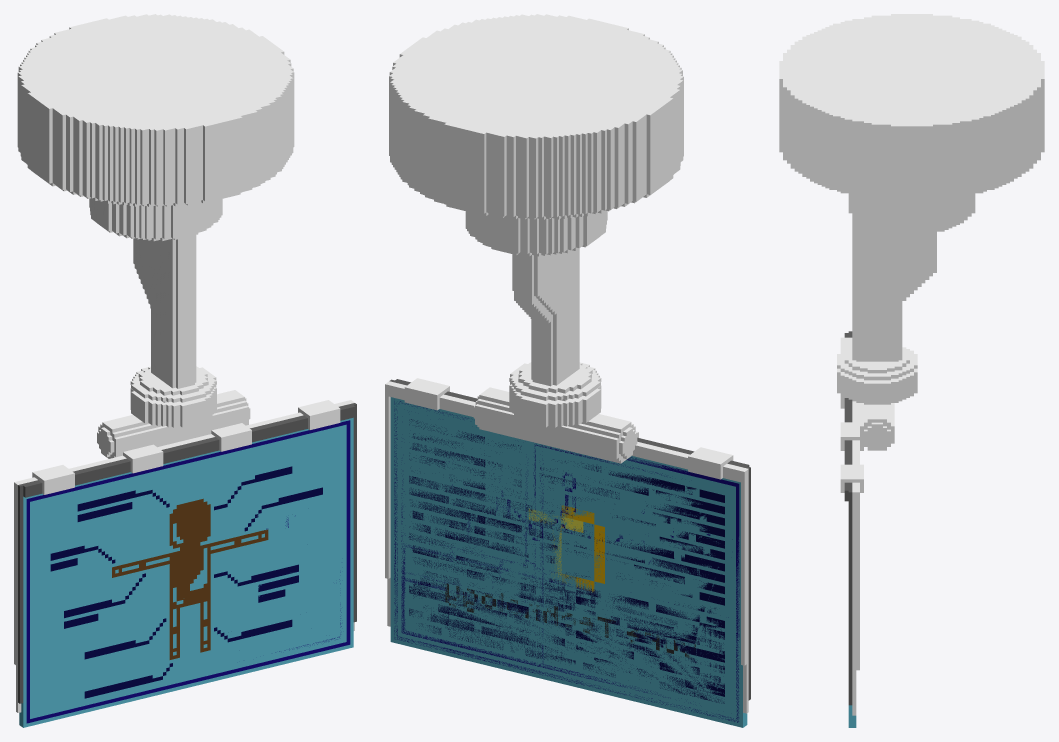
File: Monitor4-1.fbx
3 renders of one model, left to right at view 1: azimuth 30°, elevation 25°; view 2: azimuth 150°, elevation 25°; view 3: azimuth 270°, elevation 25°, orthographic. The views are drawn at different scales.
Visible parts, largest first — view 1: Monitor4-1.006, Monitor4-1.010, Monitor4-1.011, Monitor4-1.009; view 2: Monitor4-1.007, Monitor4-1.010, Monitor4-1.001, Monitor4-1.008, Monitor4-1.004, Monitor4-1.011, Monitor4-1.009, Monitor4-1.003, Monitor4-1.005, Monitor4-1.002; view 3: Monitor4-1.010, Monitor4-1.011, Monitor4-1.009.
Part boxes in pixels (left/top/right/bottom): Monitor4-1.006: left=19, top=417, right=353, bottom=727; Monitor4-1.010: left=17, top=14, right=294, bottom=206; Monitor4-1.011: left=89, top=198, right=222, bottom=427; Monitor4-1.009: left=14, top=390, right=356, bottom=712; Monitor4-1.007: left=390, top=397, right=747, bottom=727; Monitor4-1.010: left=389, top=14, right=683, bottom=219; Monitor4-1.001: left=390, top=398, right=742, bottom=724; Monitor4-1.008: left=390, top=400, right=740, bottom=726; Monitor4-1.004: left=391, top=411, right=747, bottom=725; Monitor4-1.011: left=465, top=210, right=607, bottom=427; Monitor4-1.009: left=385, top=378, right=750, bottom=713; Monitor4-1.003: left=397, top=433, right=725, bottom=688; Monitor4-1.005: left=390, top=411, right=742, bottom=718; Monitor4-1.002: left=398, top=440, right=728, bottom=685; Monitor4-1.010: left=779, top=14, right=1044, bottom=201; Monitor4-1.011: left=837, top=194, right=975, bottom=404; Monitor4-1.009: left=840, top=331, right=894, bottom=715.
Size of the model in its own units: 9.9 by 16.6 by 6.9.
